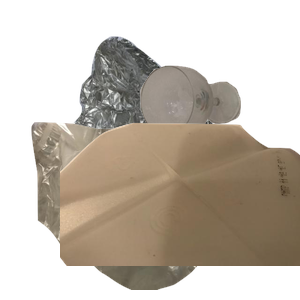glass: (138, 63, 300, 191)
metal: (68, 34, 300, 214)
plastic: (60, 120, 300, 300)
trash: (29, 120, 265, 300)
